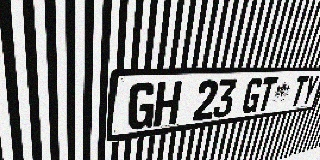2: (193, 80, 219, 121)
3: (212, 79, 238, 118)
G: (127, 82, 157, 131), (241, 78, 264, 114)
H: (153, 81, 182, 127)
T: (256, 77, 278, 112), (289, 76, 309, 107)
Y: (300, 75, 320, 106)
